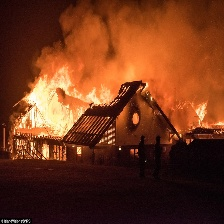fire: (18, 72, 78, 162), (169, 95, 224, 132), (86, 82, 114, 107)
smoke: (36, 2, 224, 75)
